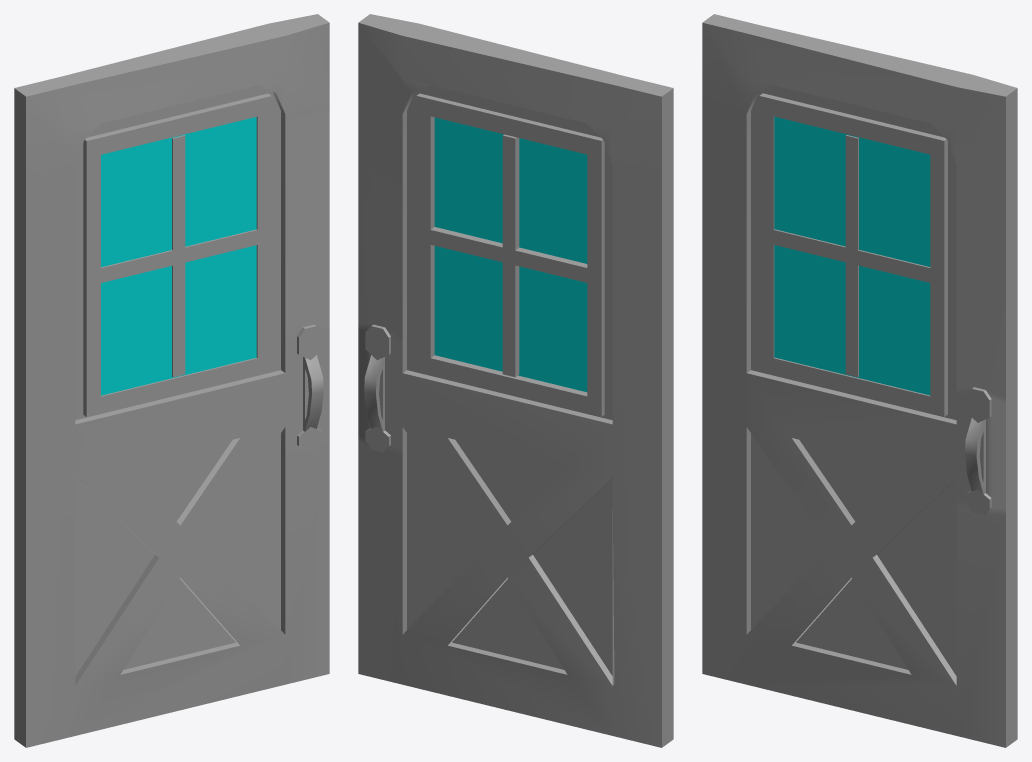
File: Door_C.fbx
3 renders of one model, left to right at view 1: azimuth 30°, elevation 25°; view 2: azimuth 150°, elevation 25°; view 3: azimuth 330°, elevation 25°, orthographic.
Visible parts, largest first — view 1: DoorC; view 2: DoorC; view 3: DoorC.
Part boxes in pixels (<box>): DoorC: <box>14,14,329,747</box>; DoorC: <box>358,14,673,747</box>; DoorC: <box>702,14,1017,747</box>.
Size of the model in its own units: 3 by 6.15 by 0.6038.
